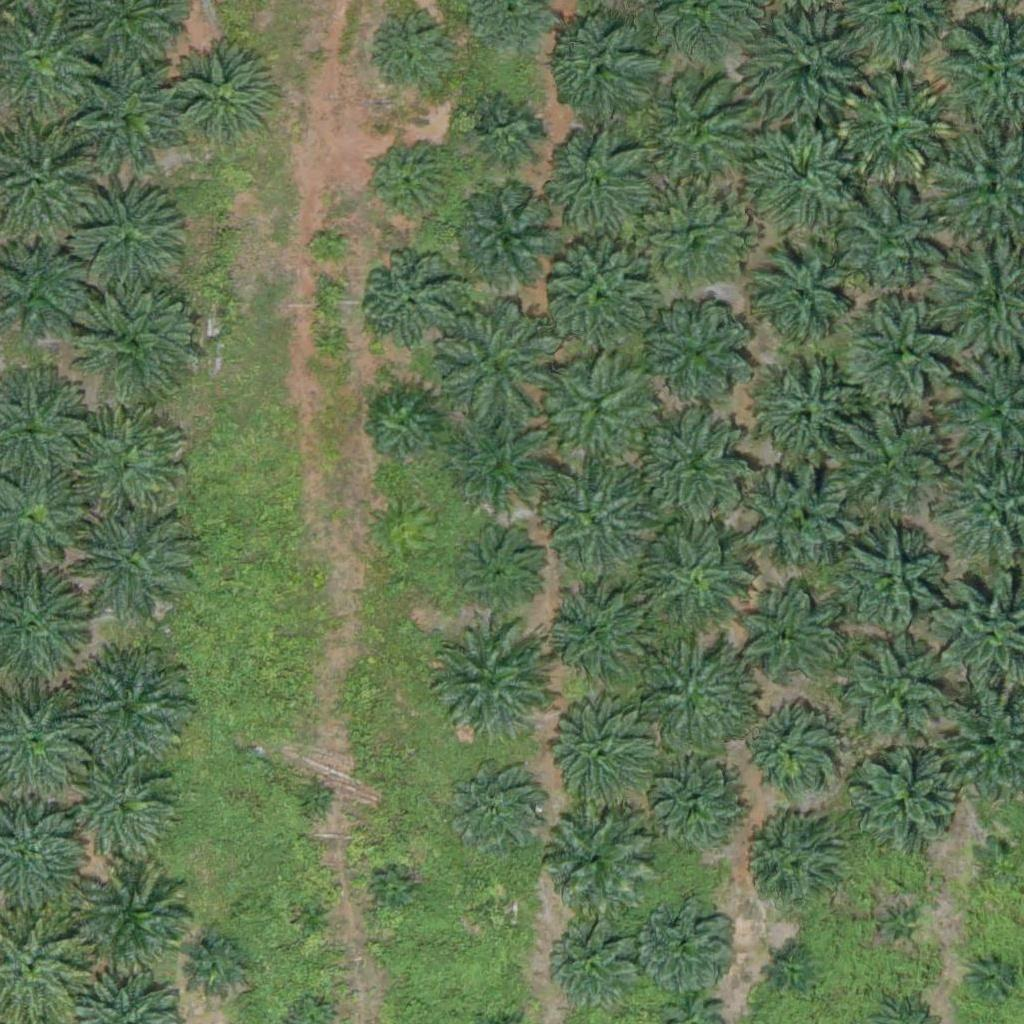Kelapa_Sawit: (70, 177, 195, 303), (69, 273, 194, 399), (431, 299, 556, 425), (64, 403, 189, 529), (68, 503, 193, 629), (64, 648, 189, 774), (75, 868, 200, 994), (424, 619, 549, 745), (834, 633, 959, 759), (636, 634, 761, 759), (640, 75, 753, 188), (634, 181, 747, 294), (546, 242, 659, 355), (536, 126, 649, 239), (546, 10, 659, 123), (167, 45, 280, 158), (644, 292, 757, 405), (752, 362, 865, 475), (535, 802, 648, 915), (639, 407, 752, 520), (639, 520, 752, 633), (737, 458, 850, 571), (851, 748, 964, 861), (73, 59, 185, 173), (831, 409, 943, 523), (839, 71, 951, 184), (838, 187, 950, 300), (745, 240, 857, 353), (745, 116, 857, 229), (752, 14, 864, 127), (846, 296, 958, 409), (544, 358, 656, 471), (445, 409, 557, 522), (540, 465, 652, 578), (542, 698, 654, 811), (833, 522, 945, 635), (456, 191, 556, 292), (75, 763, 175, 864), (445, 758, 545, 859), (548, 586, 648, 687), (646, 758, 746, 859), (736, 586, 836, 687), (738, 703, 838, 804), (736, 816, 836, 917), (641, 893, 741, 994), (360, 254, 460, 354), (369, 12, 457, 100), (367, 140, 455, 228), (457, 523, 544, 611), (554, 926, 641, 1014), (366, 388, 441, 464), (468, 95, 543, 170), (186, 933, 249, 996), (966, 949, 1016, 999), (871, 901, 921, 951), (295, 899, 333, 937), (296, 780, 334, 818), (310, 231, 347, 269), (773, 955, 811, 992), (481, 893, 519, 930), (377, 873, 414, 911)
